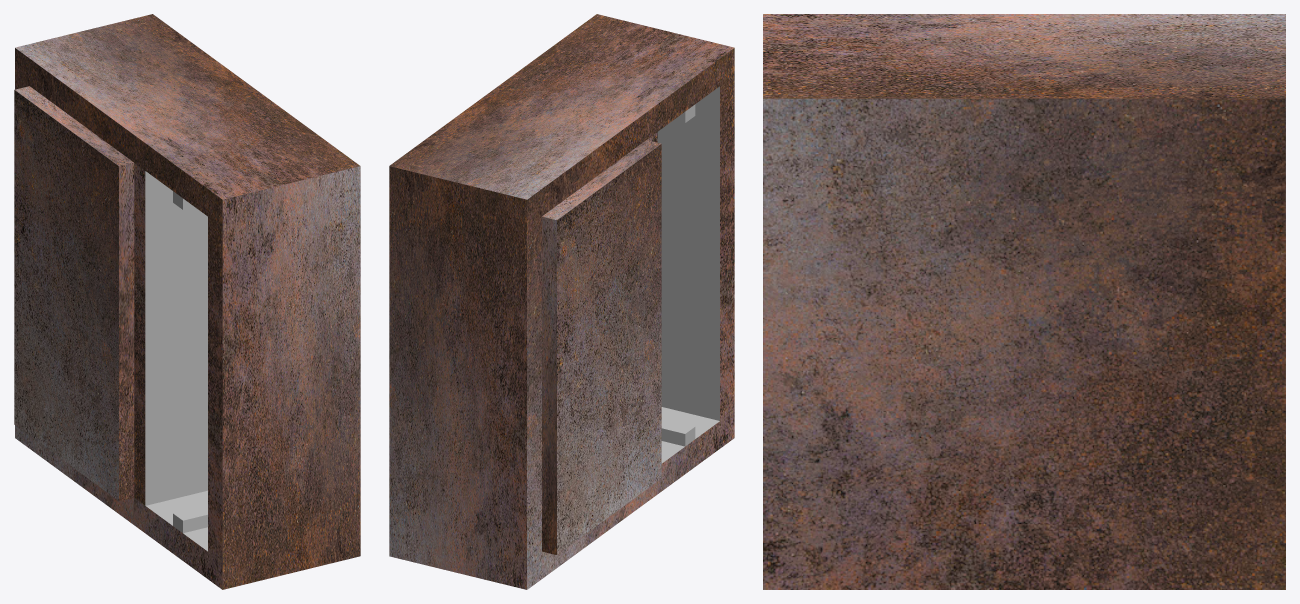
File: FuseBox.fbx
The picture shows the model from 3 angles, left to right: view 1: azimuth 30°, elevation 25°; view 2: azimuth 150°, elevation 25°; view 3: azimuth 270°, elevation 25°; orthographic projection. The views are drawn at different scales.
Visible parts, largest first — view 1: Cube; view 2: Cube; view 3: Cube.
Part boxes in pixels (x1,y1,x2,y2): Cube: (14, 14, 360, 589); Cube: (389, 14, 734, 589); Cube: (763, 14, 1285, 589).
Bounding box in the file's own units: 13.58 × 33.07 × 31.9.
